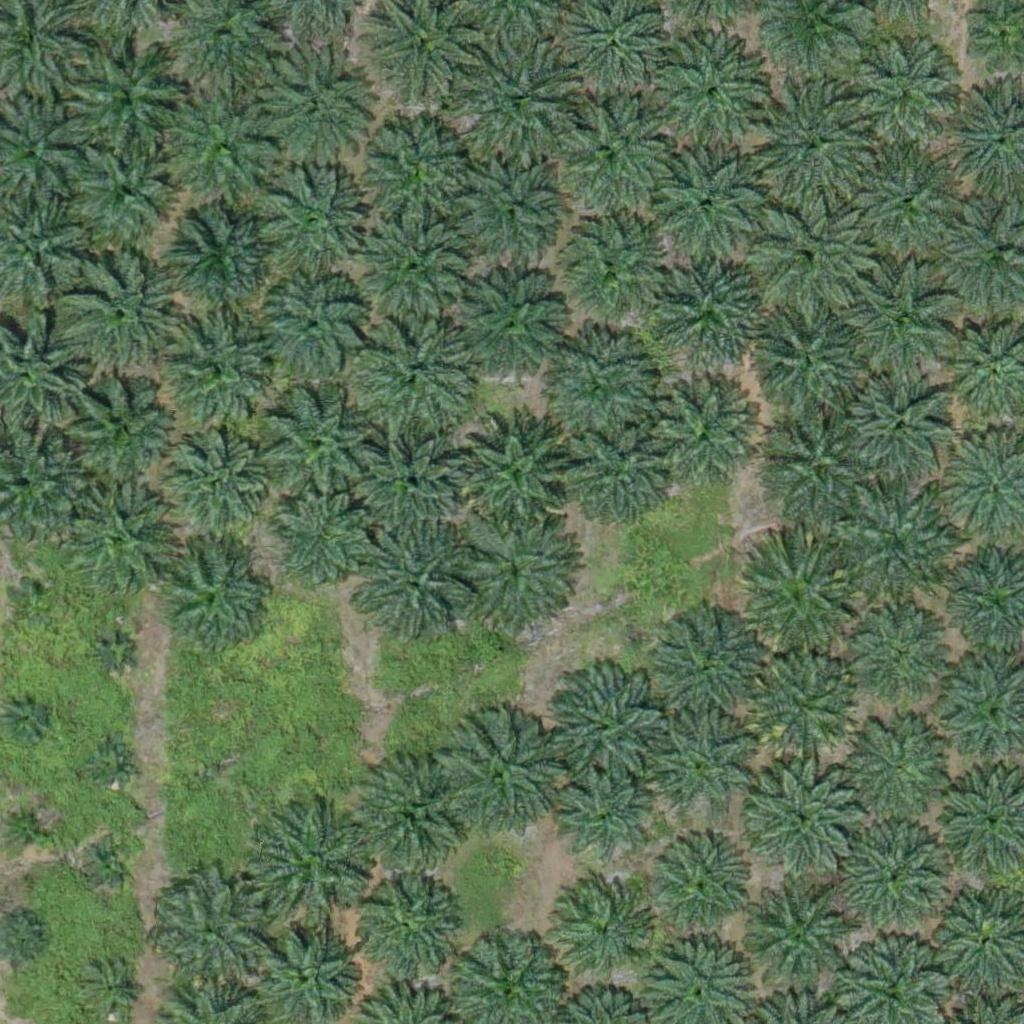Kelapa_Sawit: (61, 28, 186, 154), (65, 127, 190, 253), (61, 248, 186, 374), (51, 361, 176, 487), (153, 83, 278, 209), (247, 165, 372, 291), (250, 42, 375, 168), (252, 385, 377, 511), (357, 205, 482, 331), (356, 313, 481, 439), (352, 521, 477, 647), (538, 95, 663, 221), (451, 406, 576, 532), (455, 510, 580, 636), (748, 80, 873, 206), (744, 195, 869, 321), (542, 664, 667, 790), (436, 717, 561, 843), (253, 802, 378, 928), (357, 111, 482, 236), (543, 206, 668, 331), (532, 324, 657, 449), (735, 539, 860, 664), (153, 422, 266, 536), (165, 315, 278, 429), (266, 484, 379, 598), (849, 146, 962, 260), (846, 39, 959, 153), (355, 756, 468, 870), (157, 541, 270, 654), (168, 203, 281, 316), (452, 269, 565, 382), (453, 155, 566, 268), (466, 40, 579, 153), (558, 414, 671, 527), (845, 371, 958, 484), (842, 267, 955, 380), (749, 758, 862, 871), (746, 885, 859, 998), (64, 489, 176, 602), (258, 273, 370, 386), (350, 429, 462, 542), (649, 377, 761, 490), (656, 252, 768, 365), (648, 149, 760, 262), (653, 39, 765, 152), (753, 309, 865, 422), (760, 407, 872, 520), (842, 494, 954, 607), (840, 710, 952, 823), (841, 820, 953, 933), (154, 875, 266, 988), (847, 603, 947, 704), (753, 653, 853, 754), (663, 615, 763, 716), (651, 713, 751, 814), (647, 834, 747, 935), (553, 766, 653, 867), (551, 881, 651, 981), (355, 874, 455, 974), (86, 964, 136, 1015), (2, 799, 52, 850), (86, 837, 136, 887), (89, 627, 139, 677), (85, 738, 135, 788), (8, 573, 58, 623)
